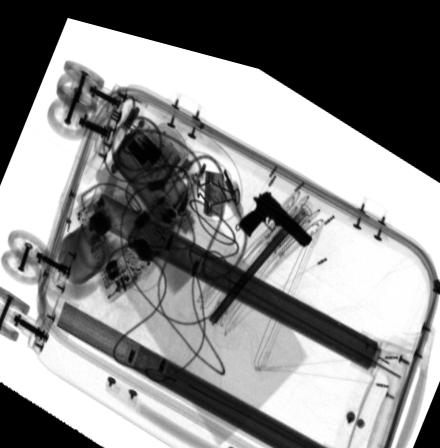Gun: (237, 175, 313, 232)
